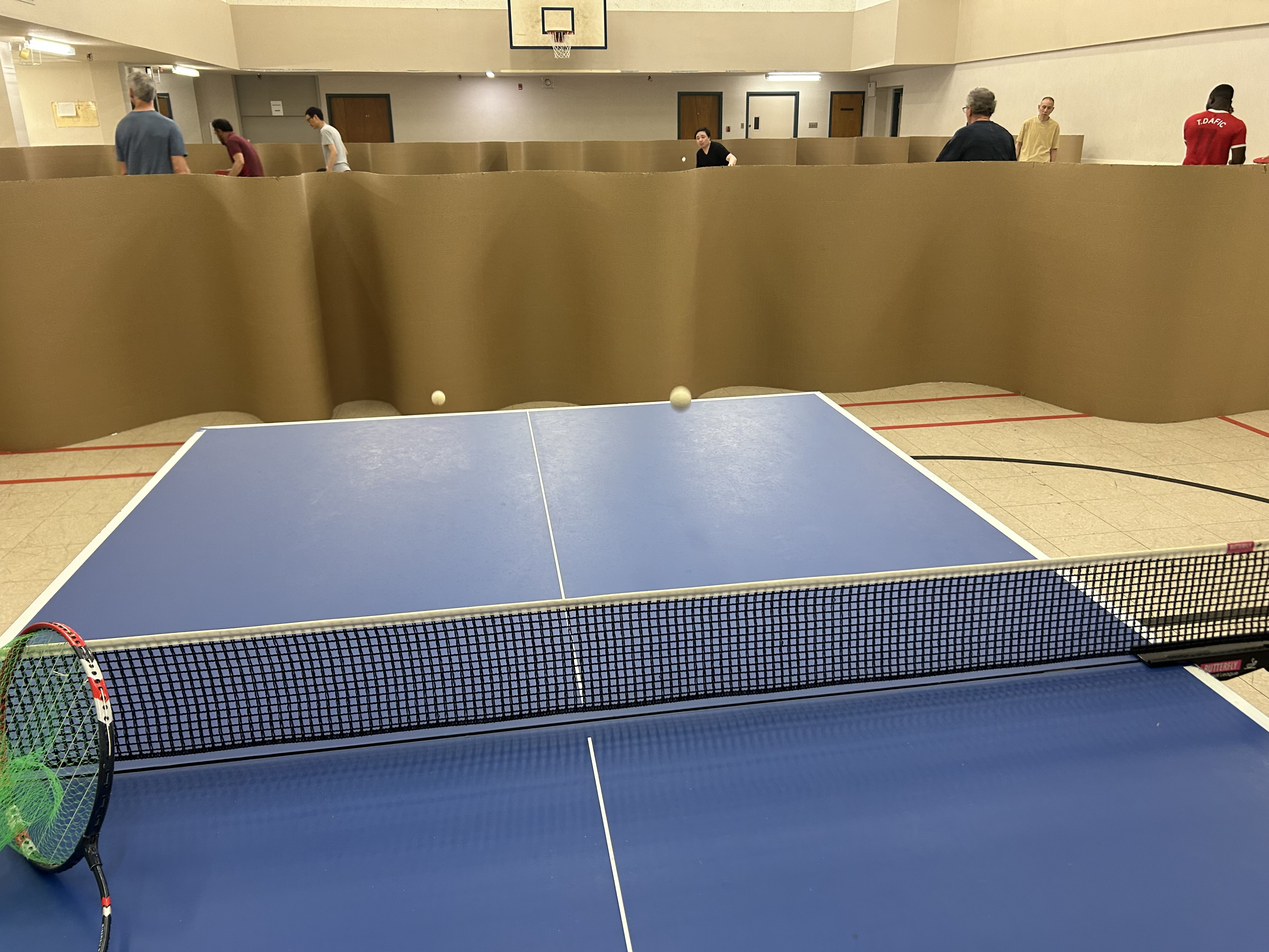Ball: (669, 380, 701, 409)
